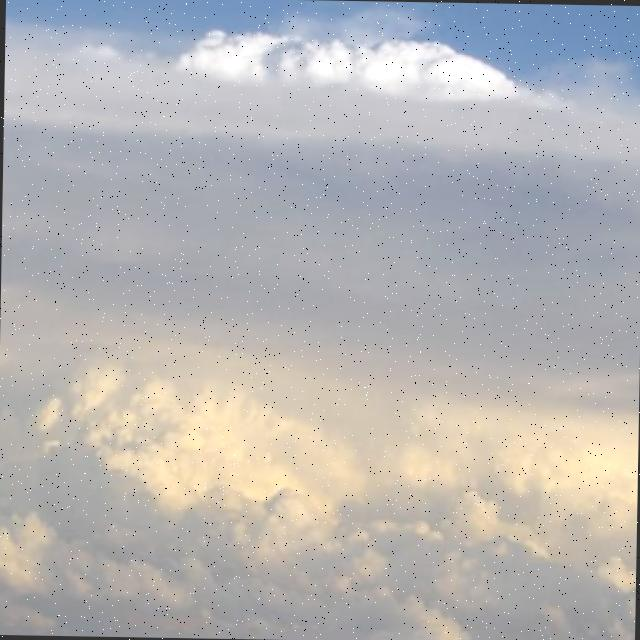Cb: (1, 77, 640, 640)
